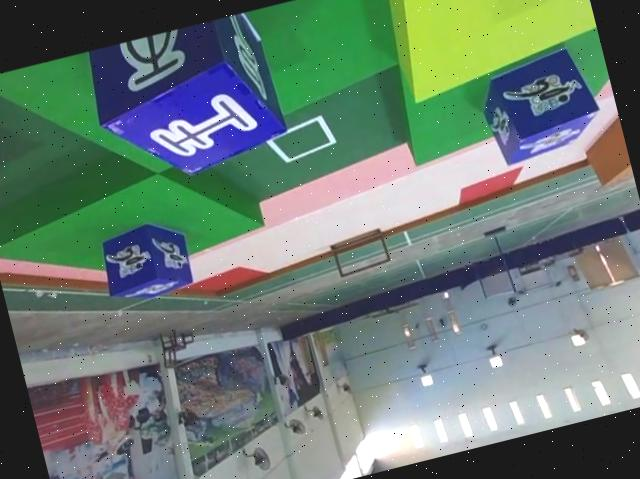R1 Blue: (472, 39, 609, 166), (94, 213, 198, 306)
R2 Fake Blue: (82, 9, 293, 196)
